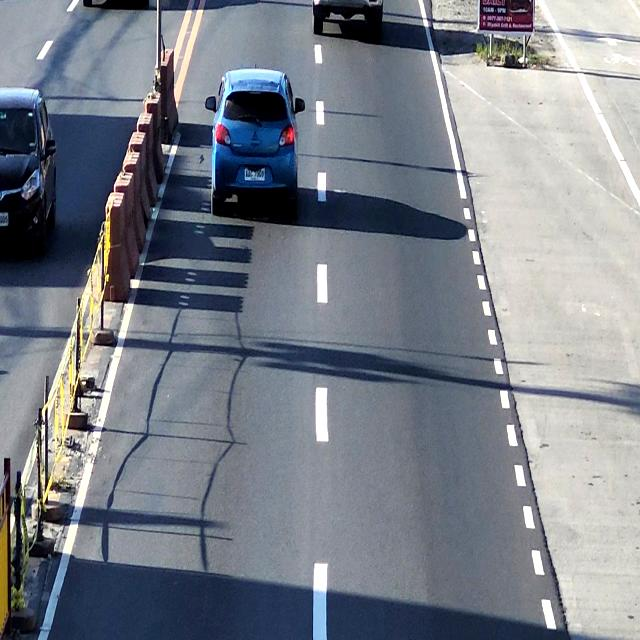Car: (209, 69, 300, 216), (315, 0, 386, 36)
License-Plate: (242, 163, 265, 186)
